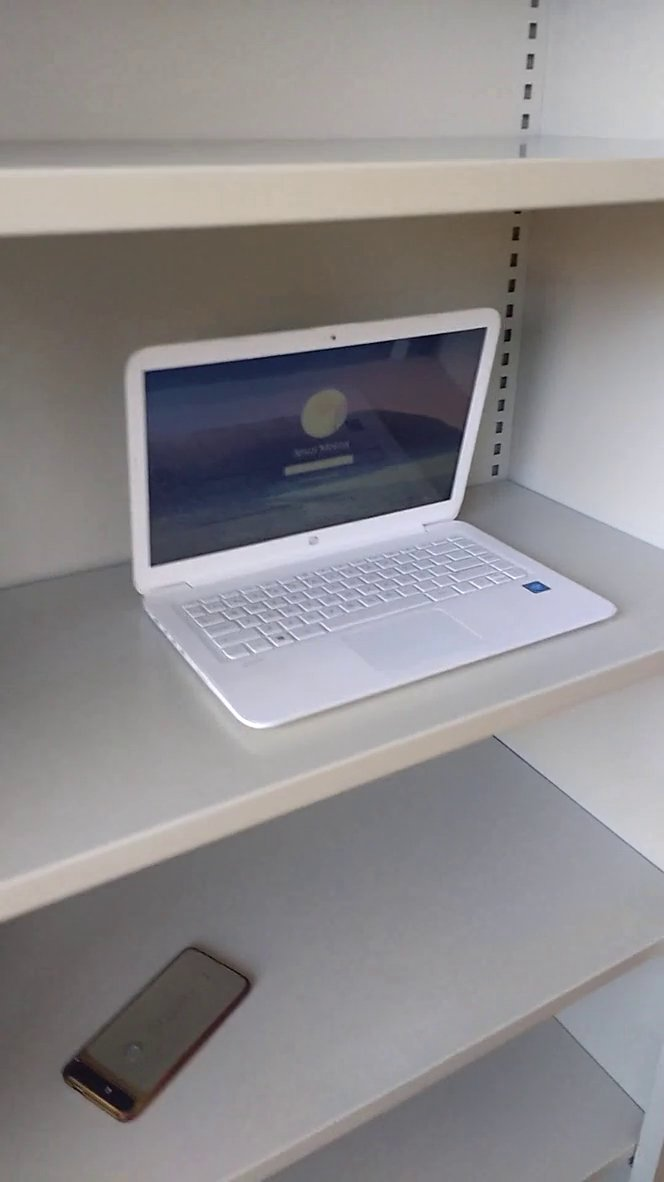laptop: (109, 269, 631, 753)
phone: (55, 933, 263, 1131)
